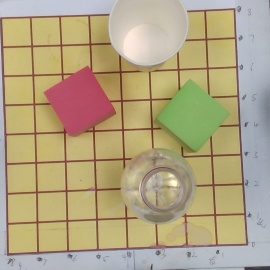bottle: (121, 149, 197, 224)
cup: (106, 1, 189, 71)
